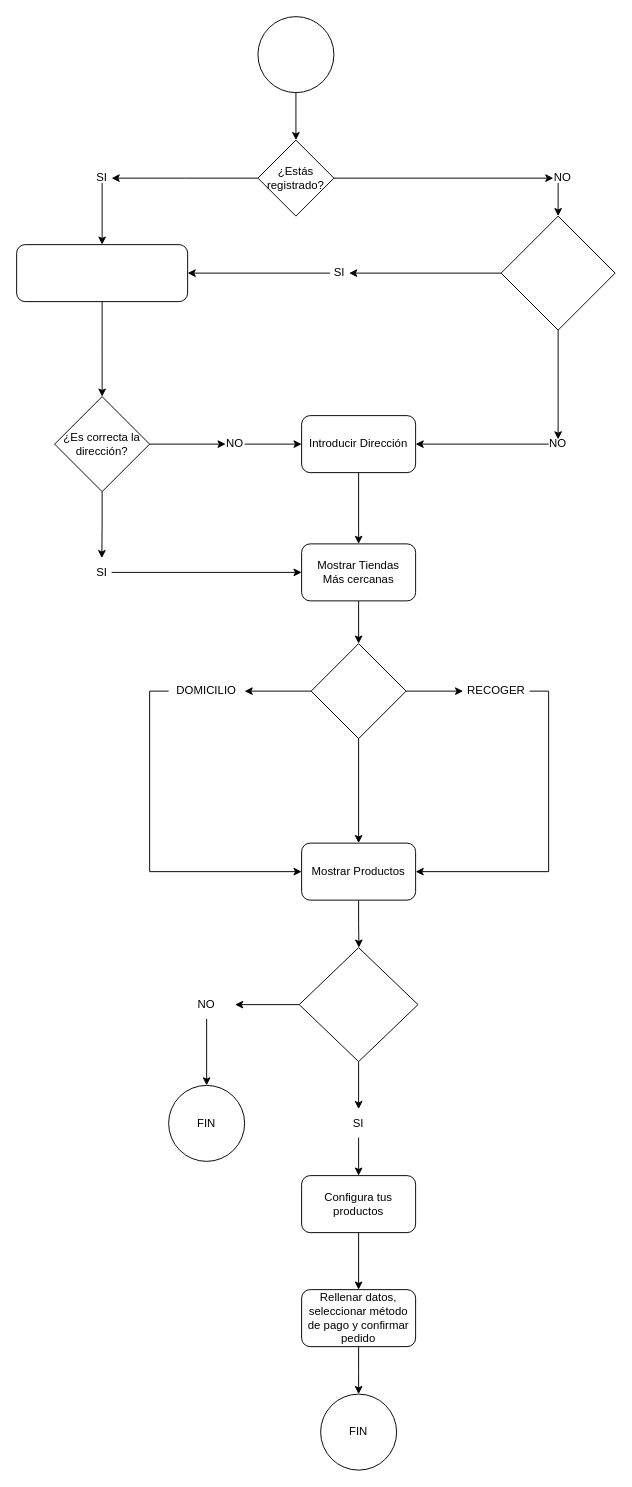
Image size: 632x1487. Some labels were removed from this diagram. Here are the shapes that lost their labels. From the top down, the box of each, then its label:
(257, 16, 334, 93): INICIAR PEDIDO
(16, 244, 188, 302): Introducir Usuario Introducir Contraseña
(500, 215, 615, 330): ¿Quiéres registrarte?
(310, 643, 406, 739): ¿Pedido a domicilio o a recoger?
(298, 947, 418, 1062): ¿Te ha interesado algún producto?
